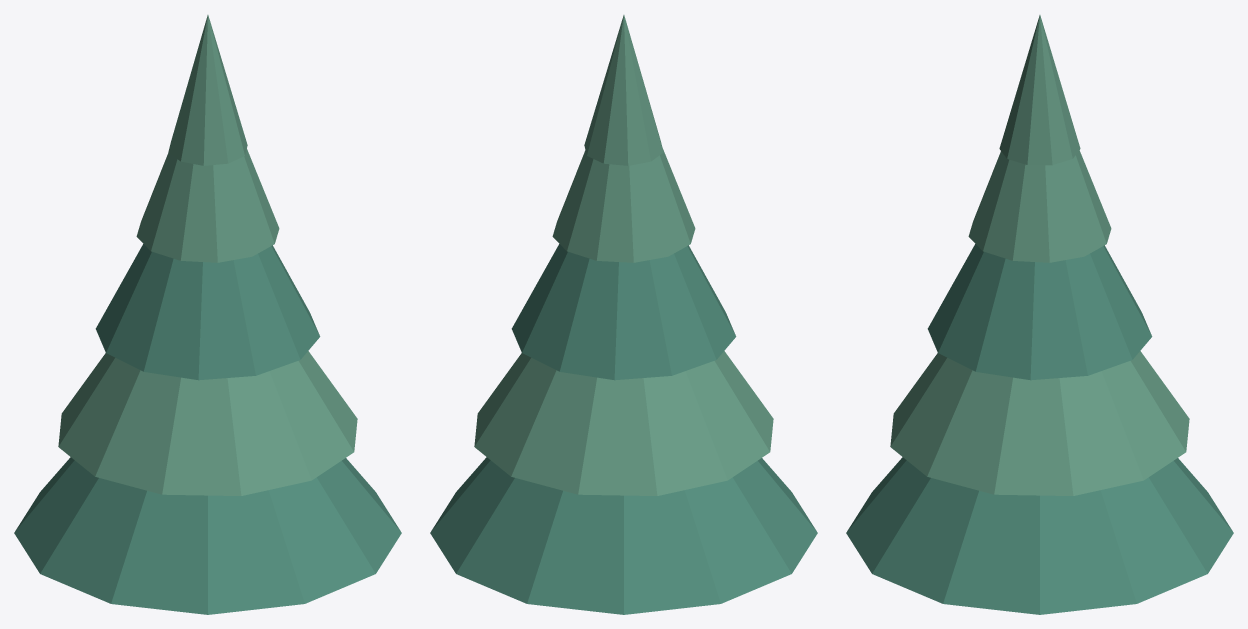
Rendered from bush_conical_evergreen.glb.
3 renders of one model, left to right at view 1: azimuth 30°, elevation 25°; view 2: azimuth 150°, elevation 25°; view 3: azimuth 270°, elevation 25°, orthographic.
Visible parts, largest first — view 1: Evergreen_Shrub_Foliage_Tier_0, Evergreen_Shrub_Foliage_Tier_1, Evergreen_Shrub_Foliage_Tier_2, Evergreen_Shrub_Foliage_Tier_3, Evergreen_Shrub_Point; view 2: Evergreen_Shrub_Foliage_Tier_0, Evergreen_Shrub_Foliage_Tier_1, Evergreen_Shrub_Foliage_Tier_2, Evergreen_Shrub_Foliage_Tier_3, Evergreen_Shrub_Point; view 3: Evergreen_Shrub_Foliage_Tier_0, Evergreen_Shrub_Foliage_Tier_1, Evergreen_Shrub_Foliage_Tier_2, Evergreen_Shrub_Foliage_Tier_3, Evergreen_Shrub_Point.
Boxes of the visible parts, x1,y1,x2,y2 form: Evergreen_Shrub_Foliage_Tier_0: (14, 457, 401, 614); Evergreen_Shrub_Foliage_Tier_1: (58, 351, 357, 495); Evergreen_Shrub_Foliage_Tier_2: (95, 244, 320, 380); Evergreen_Shrub_Foliage_Tier_3: (136, 149, 279, 262); Evergreen_Shrub_Point: (168, 15, 247, 165); Evergreen_Shrub_Foliage_Tier_0: (430, 457, 817, 614); Evergreen_Shrub_Foliage_Tier_1: (474, 351, 773, 495); Evergreen_Shrub_Foliage_Tier_2: (511, 244, 736, 380); Evergreen_Shrub_Foliage_Tier_3: (552, 148, 695, 262); Evergreen_Shrub_Point: (584, 15, 663, 165); Evergreen_Shrub_Foliage_Tier_0: (846, 457, 1233, 614); Evergreen_Shrub_Foliage_Tier_1: (890, 351, 1189, 495); Evergreen_Shrub_Foliage_Tier_2: (927, 244, 1152, 380); Evergreen_Shrub_Foliage_Tier_3: (968, 150, 1111, 262); Evergreen_Shrub_Point: (999, 15, 1080, 165).
Bounding box in the file's own units: 0.86 × 1.36 × 0.86.
